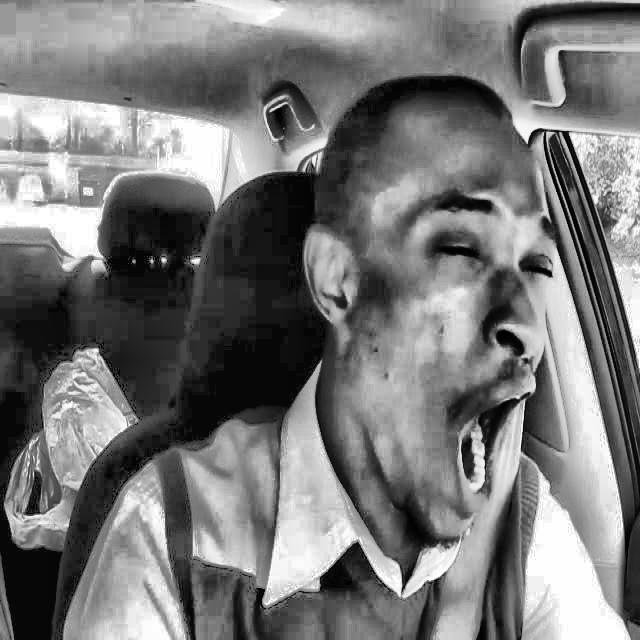closed_eyes: (419, 219, 500, 283), (513, 241, 573, 299)
open_mouth: (442, 355, 542, 537)
